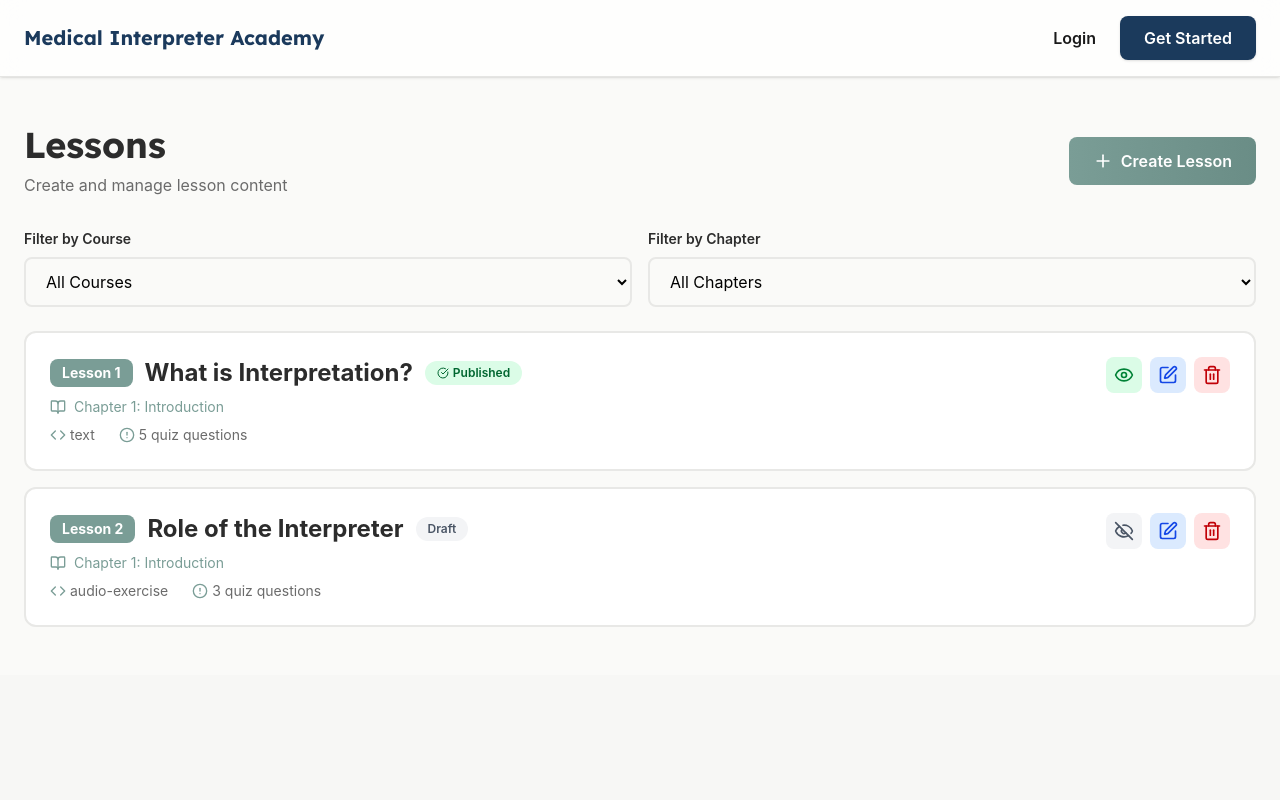
AdminLessons Page › Edit Lesson › should open edit modal with pre-filled data
Expected: the heading "What is Interpretation?" is shown, [145,357,413,389]
Click the button titled "Edit" in the row of "Published" at (1168, 375), box [1150,357,1186,393]
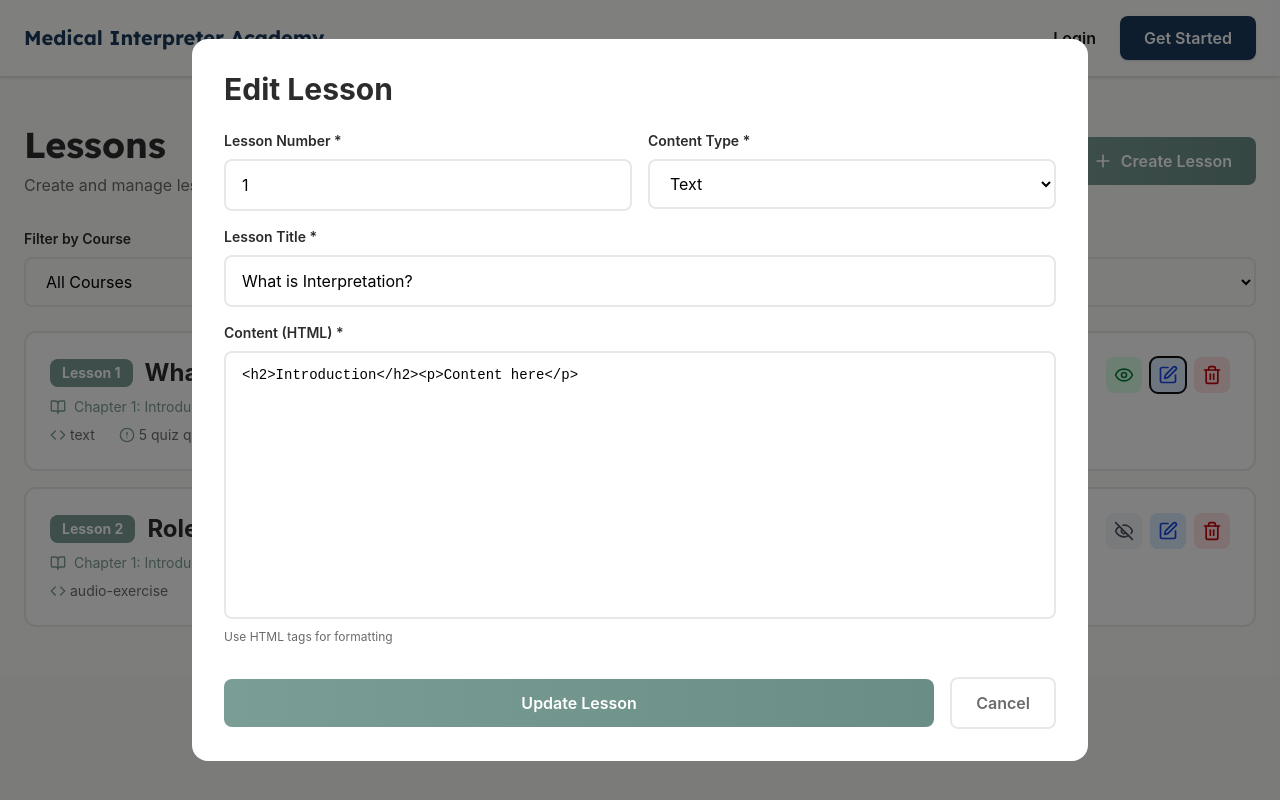
Expected: the heading "Edit Lesson" is shown, [224,71,393,107]
